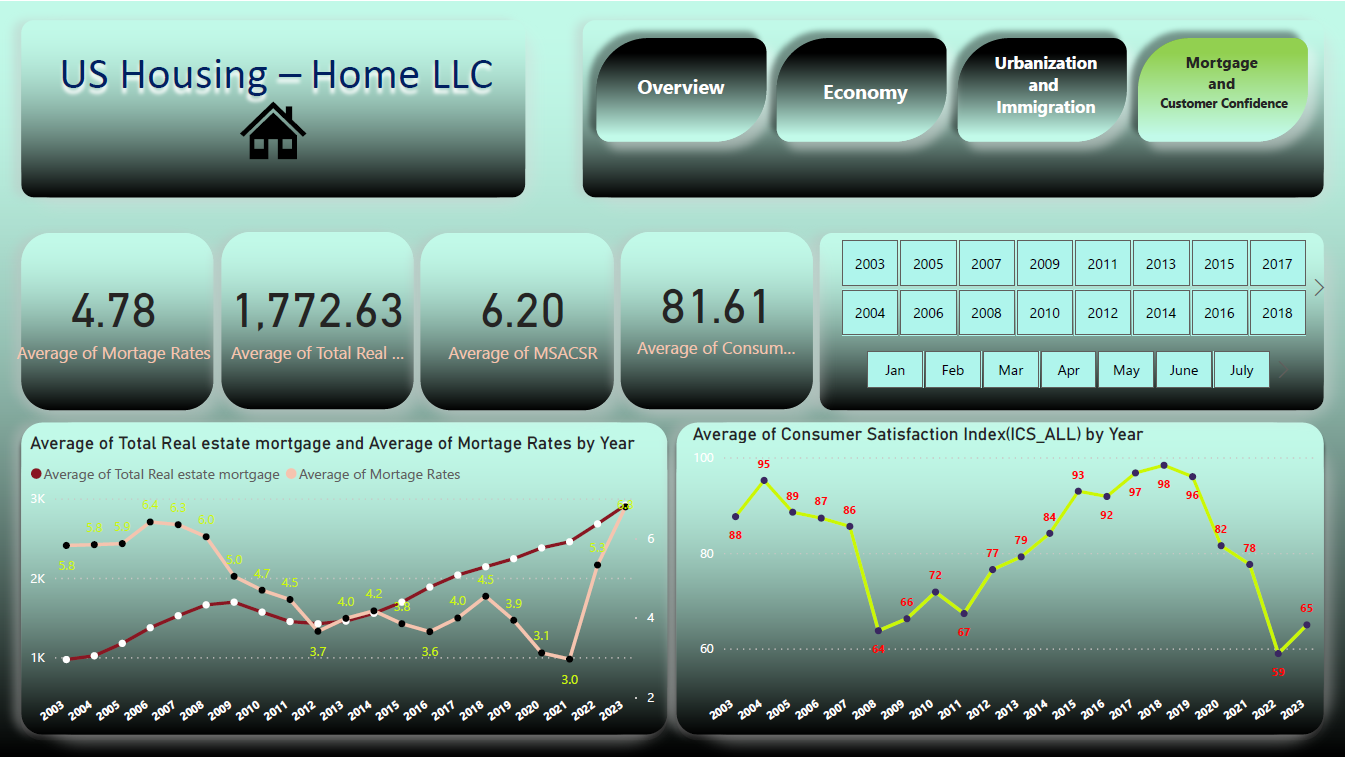

The page's visual inventory and layout, read from the dashboard file:
{"tool":"powerbi","page":{"name":"Mortgage and Customer Confidence","canvas":[1280,720],"ordinal":3},"visuals":[{"type":"card","fields":{"Values":["Avg(US Housing.Mortage Rates)"]},"box":[10,233.3,198.8,133.8],"z":0},{"type":"card","fields":{"Values":["Avg(US Housing.Total Real estate mortgage)"]},"box":[214.4,226.5,177.5,147.5],"z":1000},{"type":"card","fields":{"Values":["Avg(US Housing.MSACSR)"]},"box":[397.5,225.2,200,150],"z":2000},{"type":"card","fields":{"Values":["Avg(US Housing.Consumer Satisfaction Index(ICS_ALL))"]},"box":[597.5,221.2,167.5,150],"z":3000},{"type":"lineChart","fields":{"Category":["US Housing.Date.Variation.Date Hierarchy.Year","US Housing.Date.Variation.Date Hierarchy.Quarter","US Housing.Date.Variation.Date Hierarchy.Month","US Housing.Date.Variation.Date Hierarchy.Day"],"Y2":["Avg(US Housing.Mortage Rates)"],"Y":["Avg(US Housing.Total Real estate mortgage)"]},"box":[25,410,602.5,285],"z":4000},{"type":"lineChart","fields":{"Category":["US Housing.Date.Variation.Date Hierarchy.Year","US Housing.Date.Variation.Date Hierarchy.Quarter","US Housing.Date.Variation.Date Hierarchy.Month","US Housing.Date.Variation.Date Hierarchy.Day"],"Y":["Avg(US Housing.Consumer Satisfaction Index(ICS_ALL))"]},"box":[653.8,401.2,603.8,293.8],"z":5000},{"type":"slicer","fields":{"Values":["US Housing.Year"]},"box":[774.7,221.4,490.3,103.5],"z":6000},{"type":"group","id":"g1","title":"Group 1","box":[583.9,42.7,139.2,88.1],"z":6001},{"type":"group","id":"g2","title":"Group 2","box":[746.2,34.5,148.8,95.2],"z":6002},{"type":"group","id":"g3","title":"Group 3","box":[916.4,34.5,157.1,95.2],"z":6003},{"type":"group","id":"g4","title":"Group 4","box":[1087.7,34.5,148.8,104.7],"z":6004},{"type":"slicer","fields":{"Values":["US Housing.Month Shortname"]},"box":[798.5,326.1,432,48.8],"z":6005},{"type":"textbox","box":[584.3,46.4,127.3,71.4],"z":7500,"group":"g1"},{"type":"shape","box":[583.9,42.7,139.2,88.1],"z":8000,"group":"g1"},{"type":"textbox","box":[756.9,51.2,127.3,71.4],"z":10000,"group":"g2"},{"type":"textbox","box":[916.4,42.8,157.1,86.9],"z":11000,"group":"g3"},{"type":"textbox","box":[1096,42.8,134.5,96.4],"z":12000,"group":"g4"},{"type":"shape","box":[746.2,34.5,148.8,95.2],"z":12004,"group":"g2"},{"type":"shape","box":[920,34.5,148.8,95.2],"z":12005,"group":"g3"},{"type":"shape","box":[1087.7,34.5,148.8,95.2],"z":12006,"group":"g4"}]}

Visuals, with their boxes in screenshot pixels (x1, y1, x2, y2), scaled from the page's 1280x720 canvas onto the 1345x759 screenshot:
card - Avg(US Housing.Mortage Rates): x1=11, y1=246, x2=219, y2=387
card - Avg(US Housing.Total Real estate mortgage): x1=225, y1=239, x2=412, y2=394
card - Avg(US Housing.MSACSR): x1=418, y1=237, x2=628, y2=396
card - Avg(US Housing.Consumer Satisfaction Index(ICS_ALL)): x1=628, y1=233, x2=804, y2=391
lineChart - US Housing.Date.Variation.Date Hierarchy.Year x US Housing.Date.Variation.Date Hierarchy.Quarter: x1=26, y1=432, x2=659, y2=733
lineChart - US Housing.Date.Variation.Date Hierarchy.Year x US Housing.Date.Variation.Date Hierarchy.Quarter: x1=687, y1=423, x2=1321, y2=733
slicer - US Housing.Year: x1=814, y1=233, x2=1329, y2=342
"Group 1" group: x1=614, y1=45, x2=760, y2=138
"Group 2" group: x1=784, y1=36, x2=940, y2=137
"Group 3" group: x1=963, y1=36, x2=1128, y2=137
"Group 4" group: x1=1143, y1=36, x2=1299, y2=147
slicer - US Housing.Month Shortname: x1=839, y1=344, x2=1293, y2=395
textbox: x1=614, y1=49, x2=748, y2=124
shape: x1=614, y1=45, x2=760, y2=138
textbox: x1=795, y1=54, x2=929, y2=129
textbox: x1=963, y1=45, x2=1128, y2=137
textbox: x1=1152, y1=45, x2=1293, y2=147
shape: x1=784, y1=36, x2=940, y2=137
shape: x1=967, y1=36, x2=1123, y2=137
shape: x1=1143, y1=36, x2=1299, y2=137
